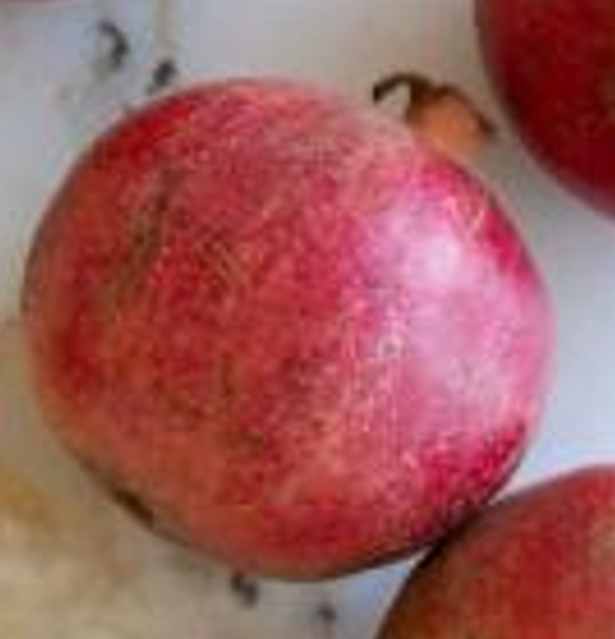pomegranate_B: (20, 74, 557, 584)
